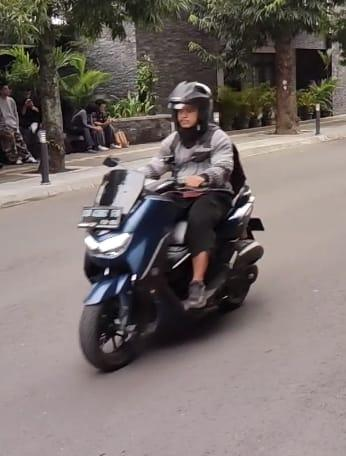helm: (166, 80, 216, 135)
riding: (76, 78, 267, 371)
